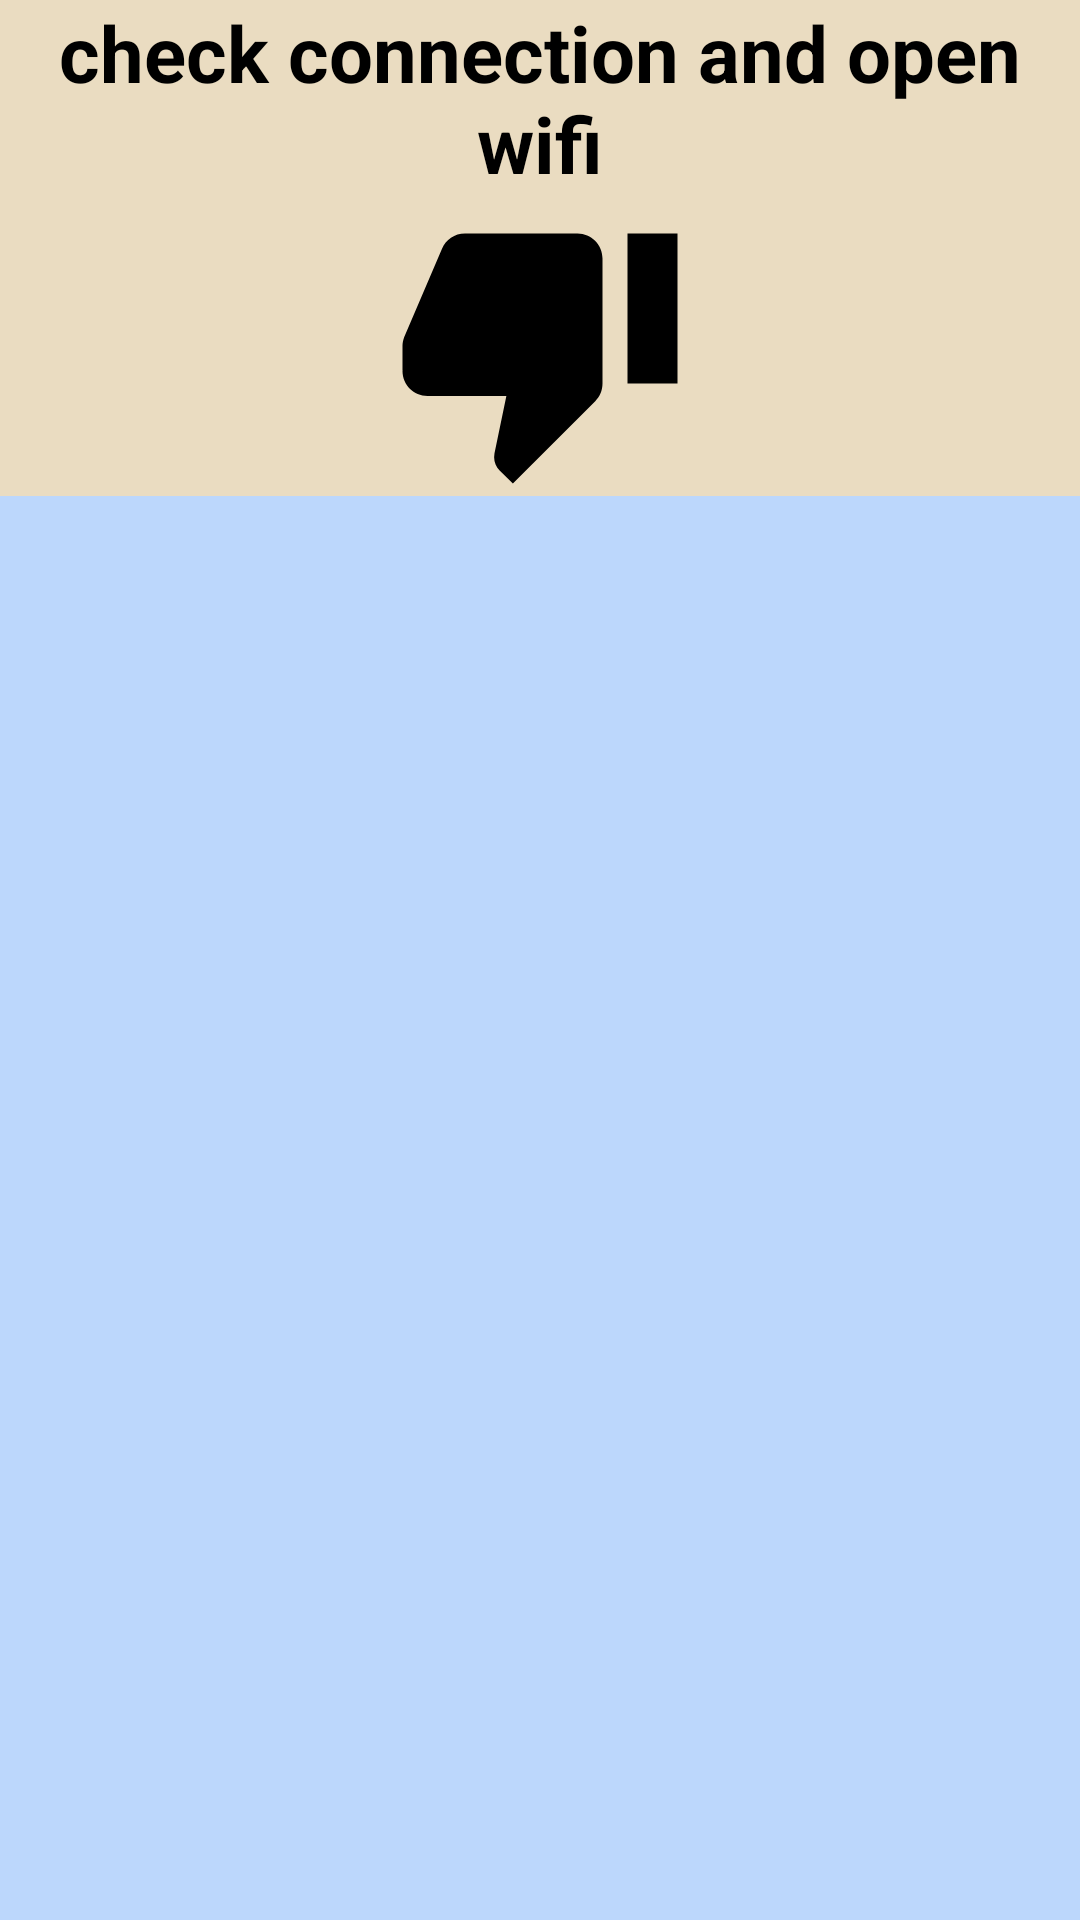

Named icons in this screenshot (1080w x 1920h) and their centers, (x,y):
thumb down: (540,358)
